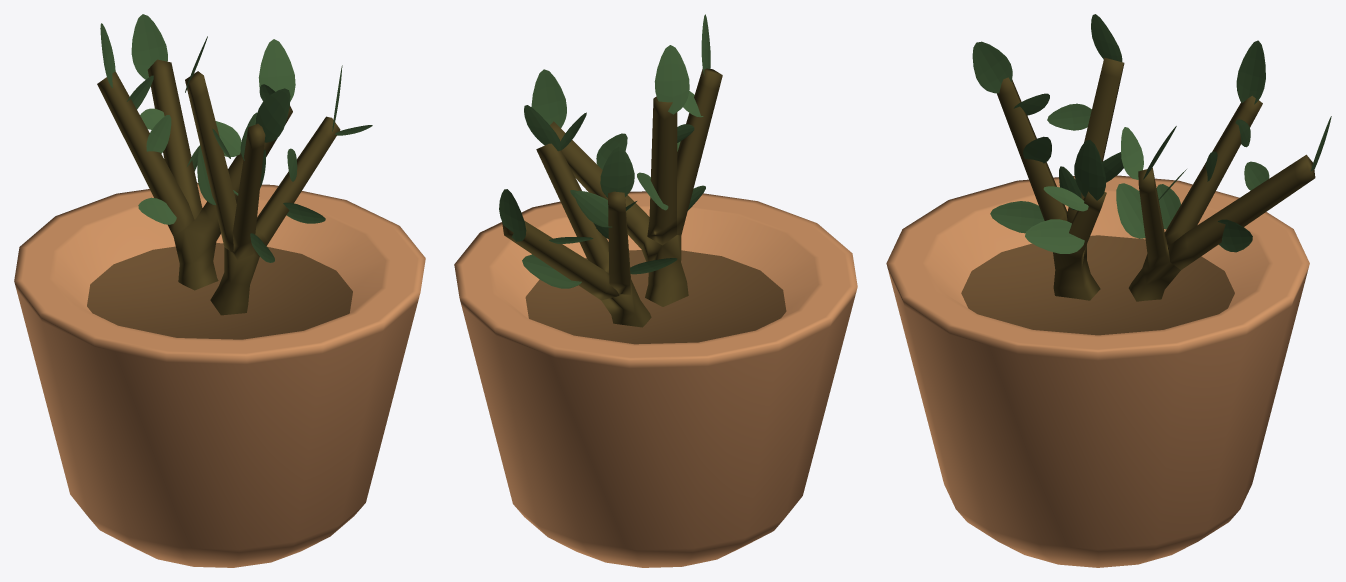
File: plant 2.fbx
The picture shows the model from 3 angles, left to right: view 1: azimuth 30°, elevation 25°; view 2: azimuth 150°, elevation 25°; view 3: azimuth 270°, elevation 25°; orthographic projection. The views are drawn at different scales.
Visible parts, largest first — view 1: plant 2; view 2: plant 2; view 3: plant 2.
Boxes of the visible parts, box(x1,y1,x2,y2) form: plant 2: box(14, 14, 425, 567); plant 2: box(454, 14, 857, 567); plant 2: box(886, 14, 1331, 567).
Size of the model in its own units: 2.95 by 3.86 by 3.1.
